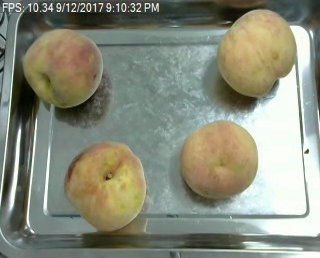Peach: (64, 140, 147, 232), (217, 8, 297, 97), (22, 29, 103, 110), (179, 120, 259, 199)
